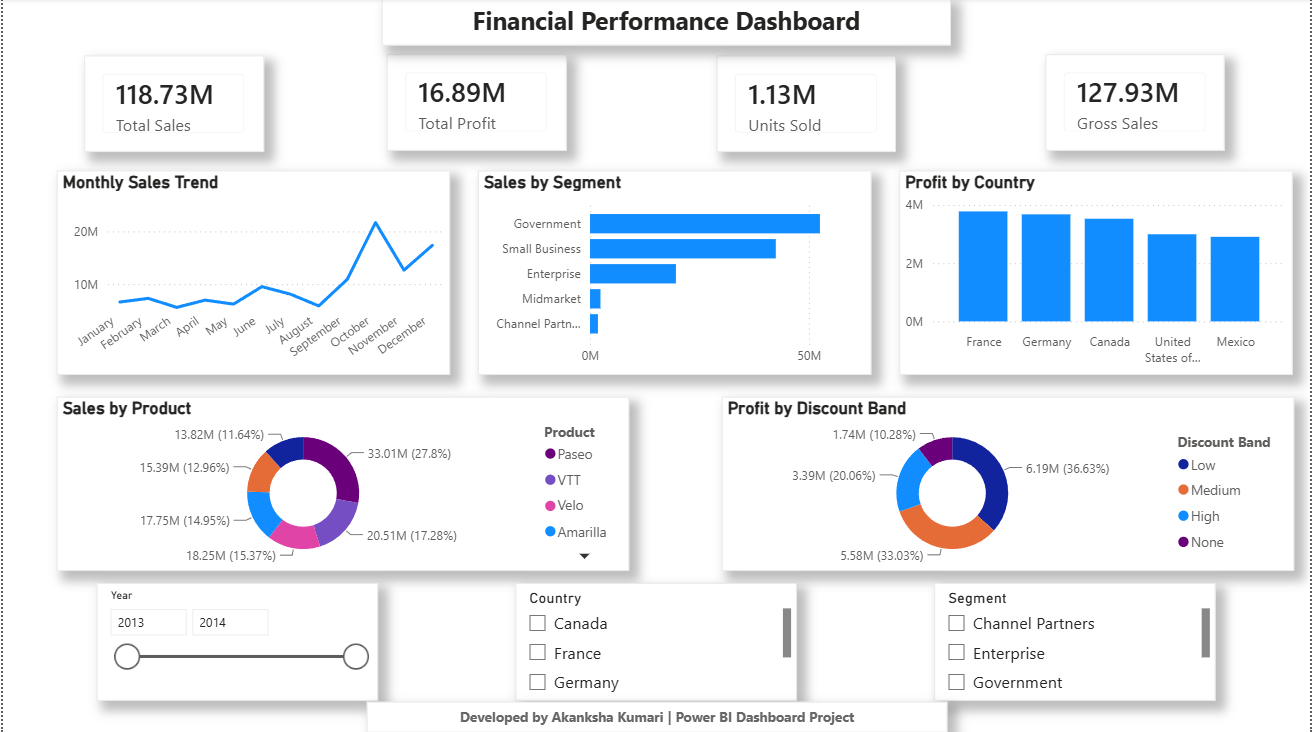

What the dashboard file says about the page in this screenshot:
{"tool":"powerbi","page":{"name":"Page 1","canvas":[1280,720],"ordinal":0},"visuals":[{"type":"cardVisual","fields":{"Data":["Sum(Sheet1. Sales)"]},"box":[79.6,56.3,175.6,94.7],"z":0},{"type":"cardVisual","fields":{"Data":["Sum(Sheet1.Profit)"]},"box":[375.7,55.3,175.6,94.7],"z":1000},{"type":"cardVisual","fields":{"Data":["Sum(Sheet1.Units Sold)"]},"box":[698,55.8,175,94],"z":2000},{"type":"cardVisual","fields":{"Data":["Sum(Sheet1.Gross Sales)"]},"box":[1019.6,55.6,175,94],"z":3000},{"type":"lineChart","title":"Monthly Sales Trend","fields":{"Category":["Sheet1.Month Name"],"Y":["Sum(Sheet1. Sales)"]},"box":[52.1,168.8,385,200.3],"z":3001},{"type":"clusteredBarChart","title":"Sales by Segment","fields":{"Category":["Sheet1.Segment"],"Y":["Sum(Sheet1. Sales)"]},"box":[464.5,169,385,200.3],"z":3002},{"type":"clusteredColumnChart","title":"Profit by Country","fields":{"Category":["Sheet1.Country"],"Y":["Sum(Sheet1.Profit)"]},"box":[876.8,169.1,385,200],"z":3003},{"type":"donutChart","title":"Sales by Product","fields":{"Category":["Sheet1.Product"],"Y":["Sum(Sheet1. Sales)"]},"box":[52.1,389.7,559.9,170.2],"z":3004},{"type":"donutChart","title":"Profit by Discount Band","fields":{"Category":["Sheet1.Discount Band"],"Y":["Sum(Sheet1.Profit)"]},"box":[702.6,389.7,559.9,170.2],"z":3005},{"type":"slicer","fields":{"Values":["Sheet1.Year"]},"box":[91.9,572.2,275,115],"z":3006},{"type":"slicer","fields":{"Values":["Sheet1.Country"]},"box":[501.5,572.2,275,115],"z":3007},{"type":"slicer","fields":{"Values":["Sheet1.Segment"]},"box":[911.2,572.2,275,115],"z":3008},{"type":"textbox","box":[370.5,0,557.1,46.7],"z":3009},{"type":"textbox","box":[356,688.4,568.1,31.6],"z":3010}]}

Visuals, with their boxes in screenshot pixels (x1, y1, x2, y2), scaled from the page's 1280x720 canvas onto the 1312x732 screenshot:
cardVisual - Sum(Sheet1. Sales): (82, 57, 262, 154)
cardVisual - Sum(Sheet1.Profit): (385, 56, 565, 152)
cardVisual - Sum(Sheet1.Units Sold): (715, 57, 895, 152)
cardVisual - Sum(Sheet1.Gross Sales): (1045, 57, 1224, 152)
"Monthly Sales Trend" lineChart: (53, 172, 448, 375)
"Sales by Segment" clusteredBarChart: (476, 172, 871, 375)
"Profit by Country" clusteredColumnChart: (899, 172, 1293, 375)
"Sales by Product" donutChart: (53, 396, 627, 569)
"Profit by Discount Band" donutChart: (720, 396, 1294, 569)
slicer - Sheet1.Year: (94, 582, 376, 699)
slicer - Sheet1.Country: (514, 582, 796, 699)
slicer - Sheet1.Segment: (934, 582, 1216, 699)
textbox: (380, 0, 951, 47)
textbox: (365, 700, 947, 731)
